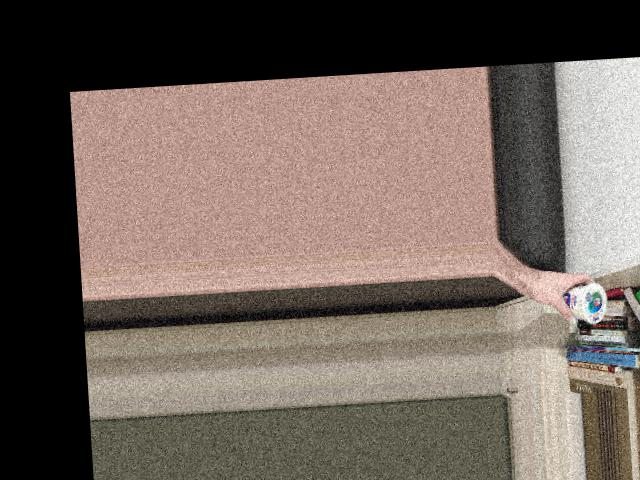cotage: (555, 277, 611, 326)
